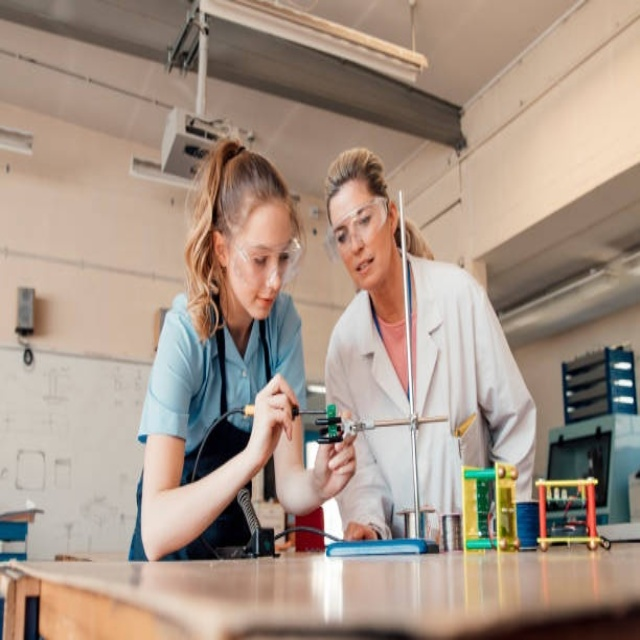Gafas: (230, 234, 303, 293), (325, 196, 388, 263)
Sin_guantes: (248, 373, 298, 467), (309, 416, 356, 502), (344, 521, 380, 542)
Sin_mascara: (351, 248, 380, 287), (243, 295, 277, 325)
